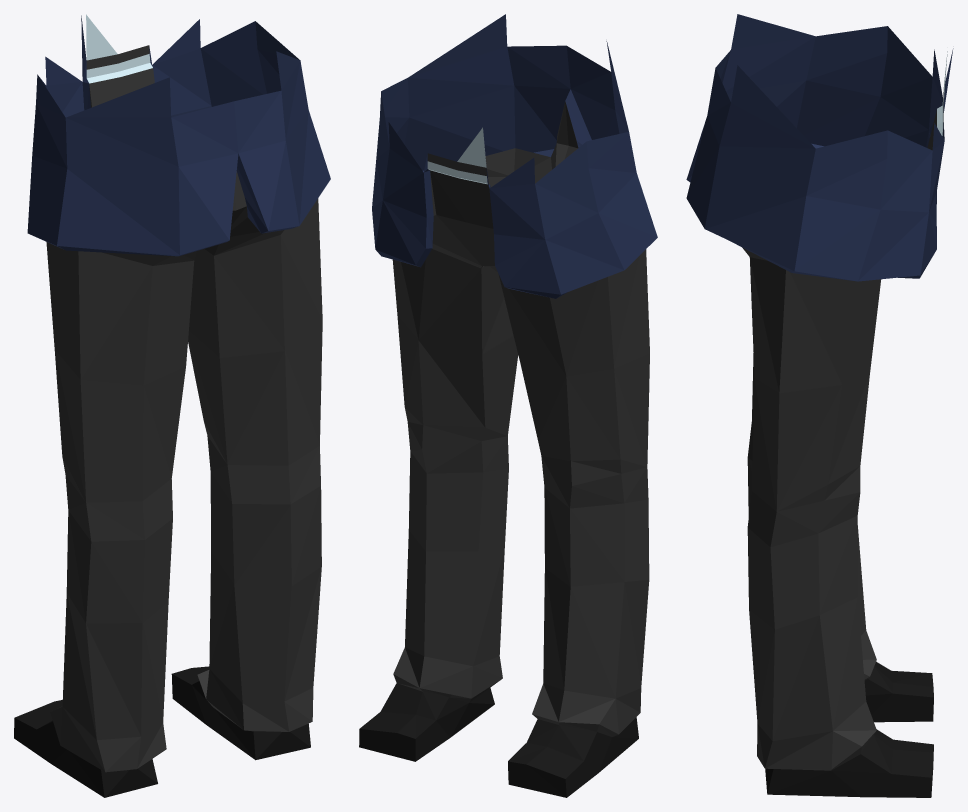
Rendered from Legs.obj.
The picture shows the model from 3 angles, left to right: view 1: azimuth 30°, elevation 25°; view 2: azimuth 150°, elevation 25°; view 3: azimuth 270°, elevation 25°; orthographic projection. The views are drawn at different scales.
Size of the model in its own units: 0.4176 by 1.05 by 0.3594.
1 material, 1 textured.
